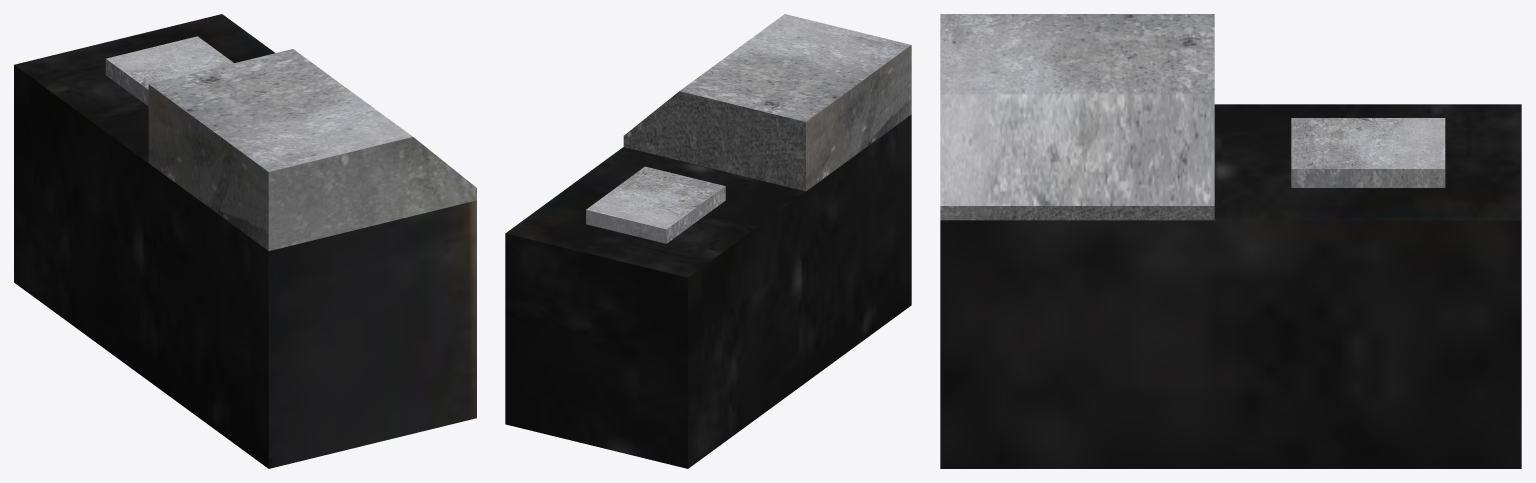
Rendered from control_panel01.obj.
3 renders of one model, left to right at view 1: azimuth 30°, elevation 25°; view 2: azimuth 150°, elevation 25°; view 3: azimuth 270°, elevation 25°, orthographic. The views are drawn at different scales.
Visible parts, largest first — view 1: Cube.007_Cube.008; view 2: Cube.007_Cube.008; view 3: Cube.007_Cube.008.
Part boxes in pixels (x1,y1,x2,y2): Cube.007_Cube.008: [14, 14, 476, 468]; Cube.007_Cube.008: [505, 14, 911, 468]; Cube.007_Cube.008: [940, 14, 1521, 468].
Size of the model in its own units: 1.25 by 1.71 by 2.65.
